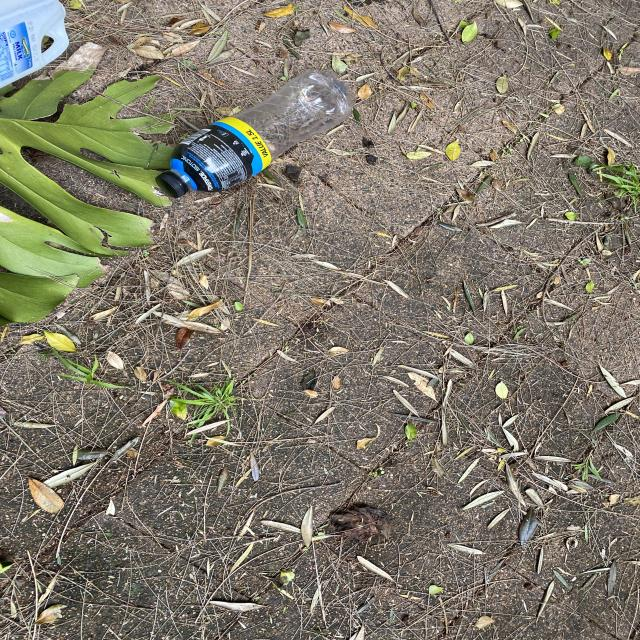bottle: (155, 70, 351, 198), (0, 0, 69, 88)
